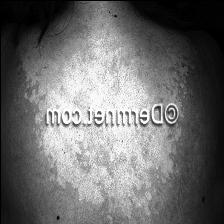Toxin: (27, 129, 180, 203), (20, 48, 190, 104)
